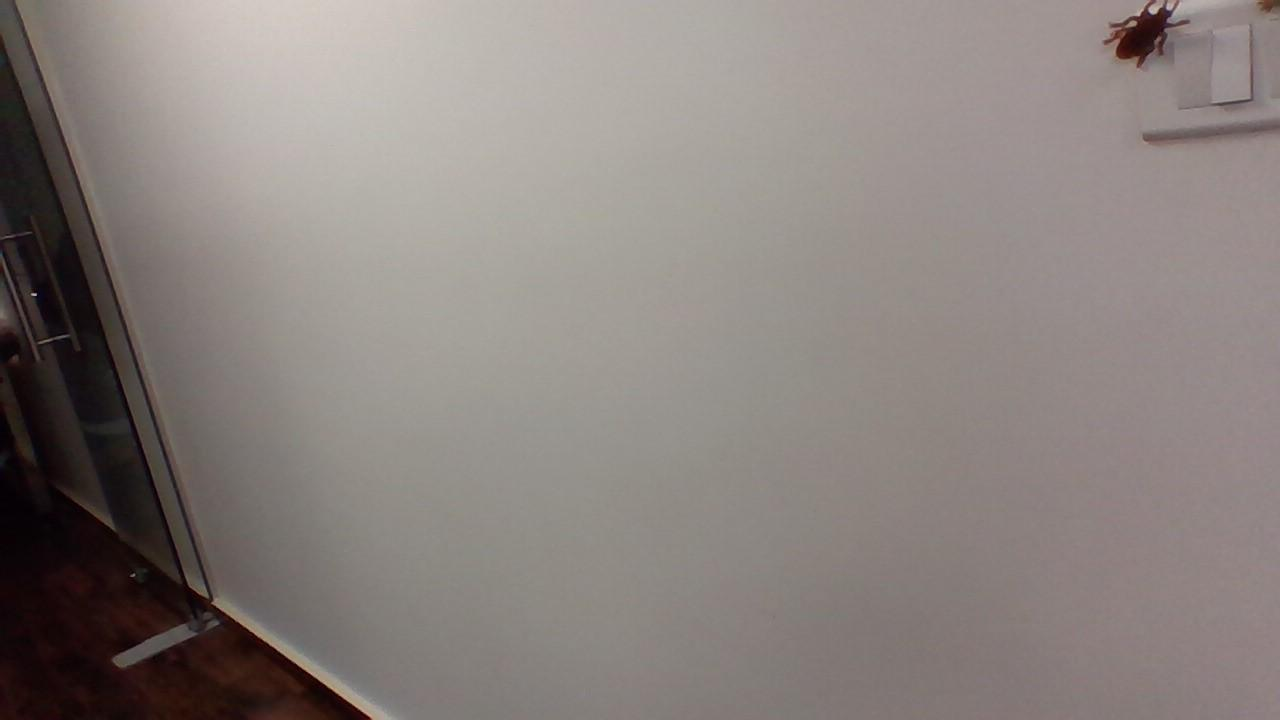cockroach: (1105, 0, 1185, 75)
